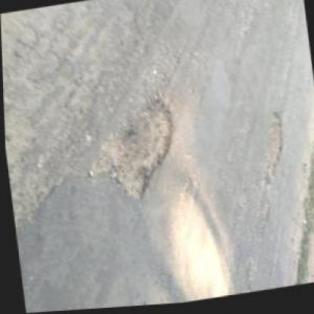Hueco: (88, 97, 184, 212), (256, 113, 288, 184)
